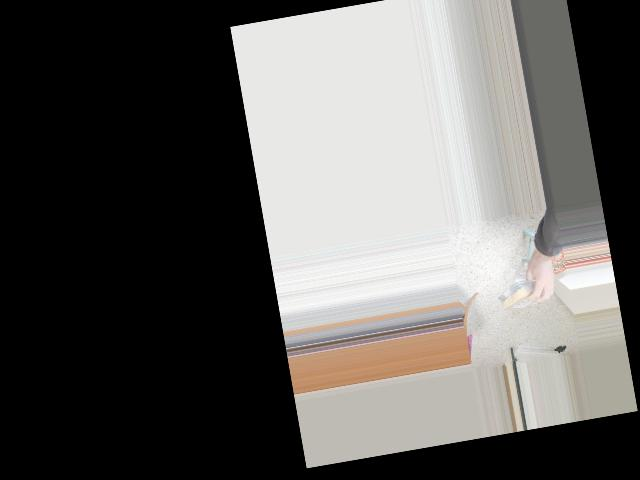cheese: (496, 281, 545, 312)
